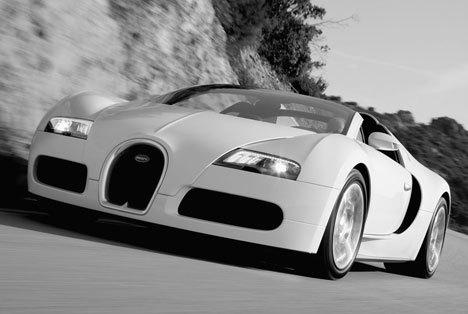car: (28, 84, 453, 282)
